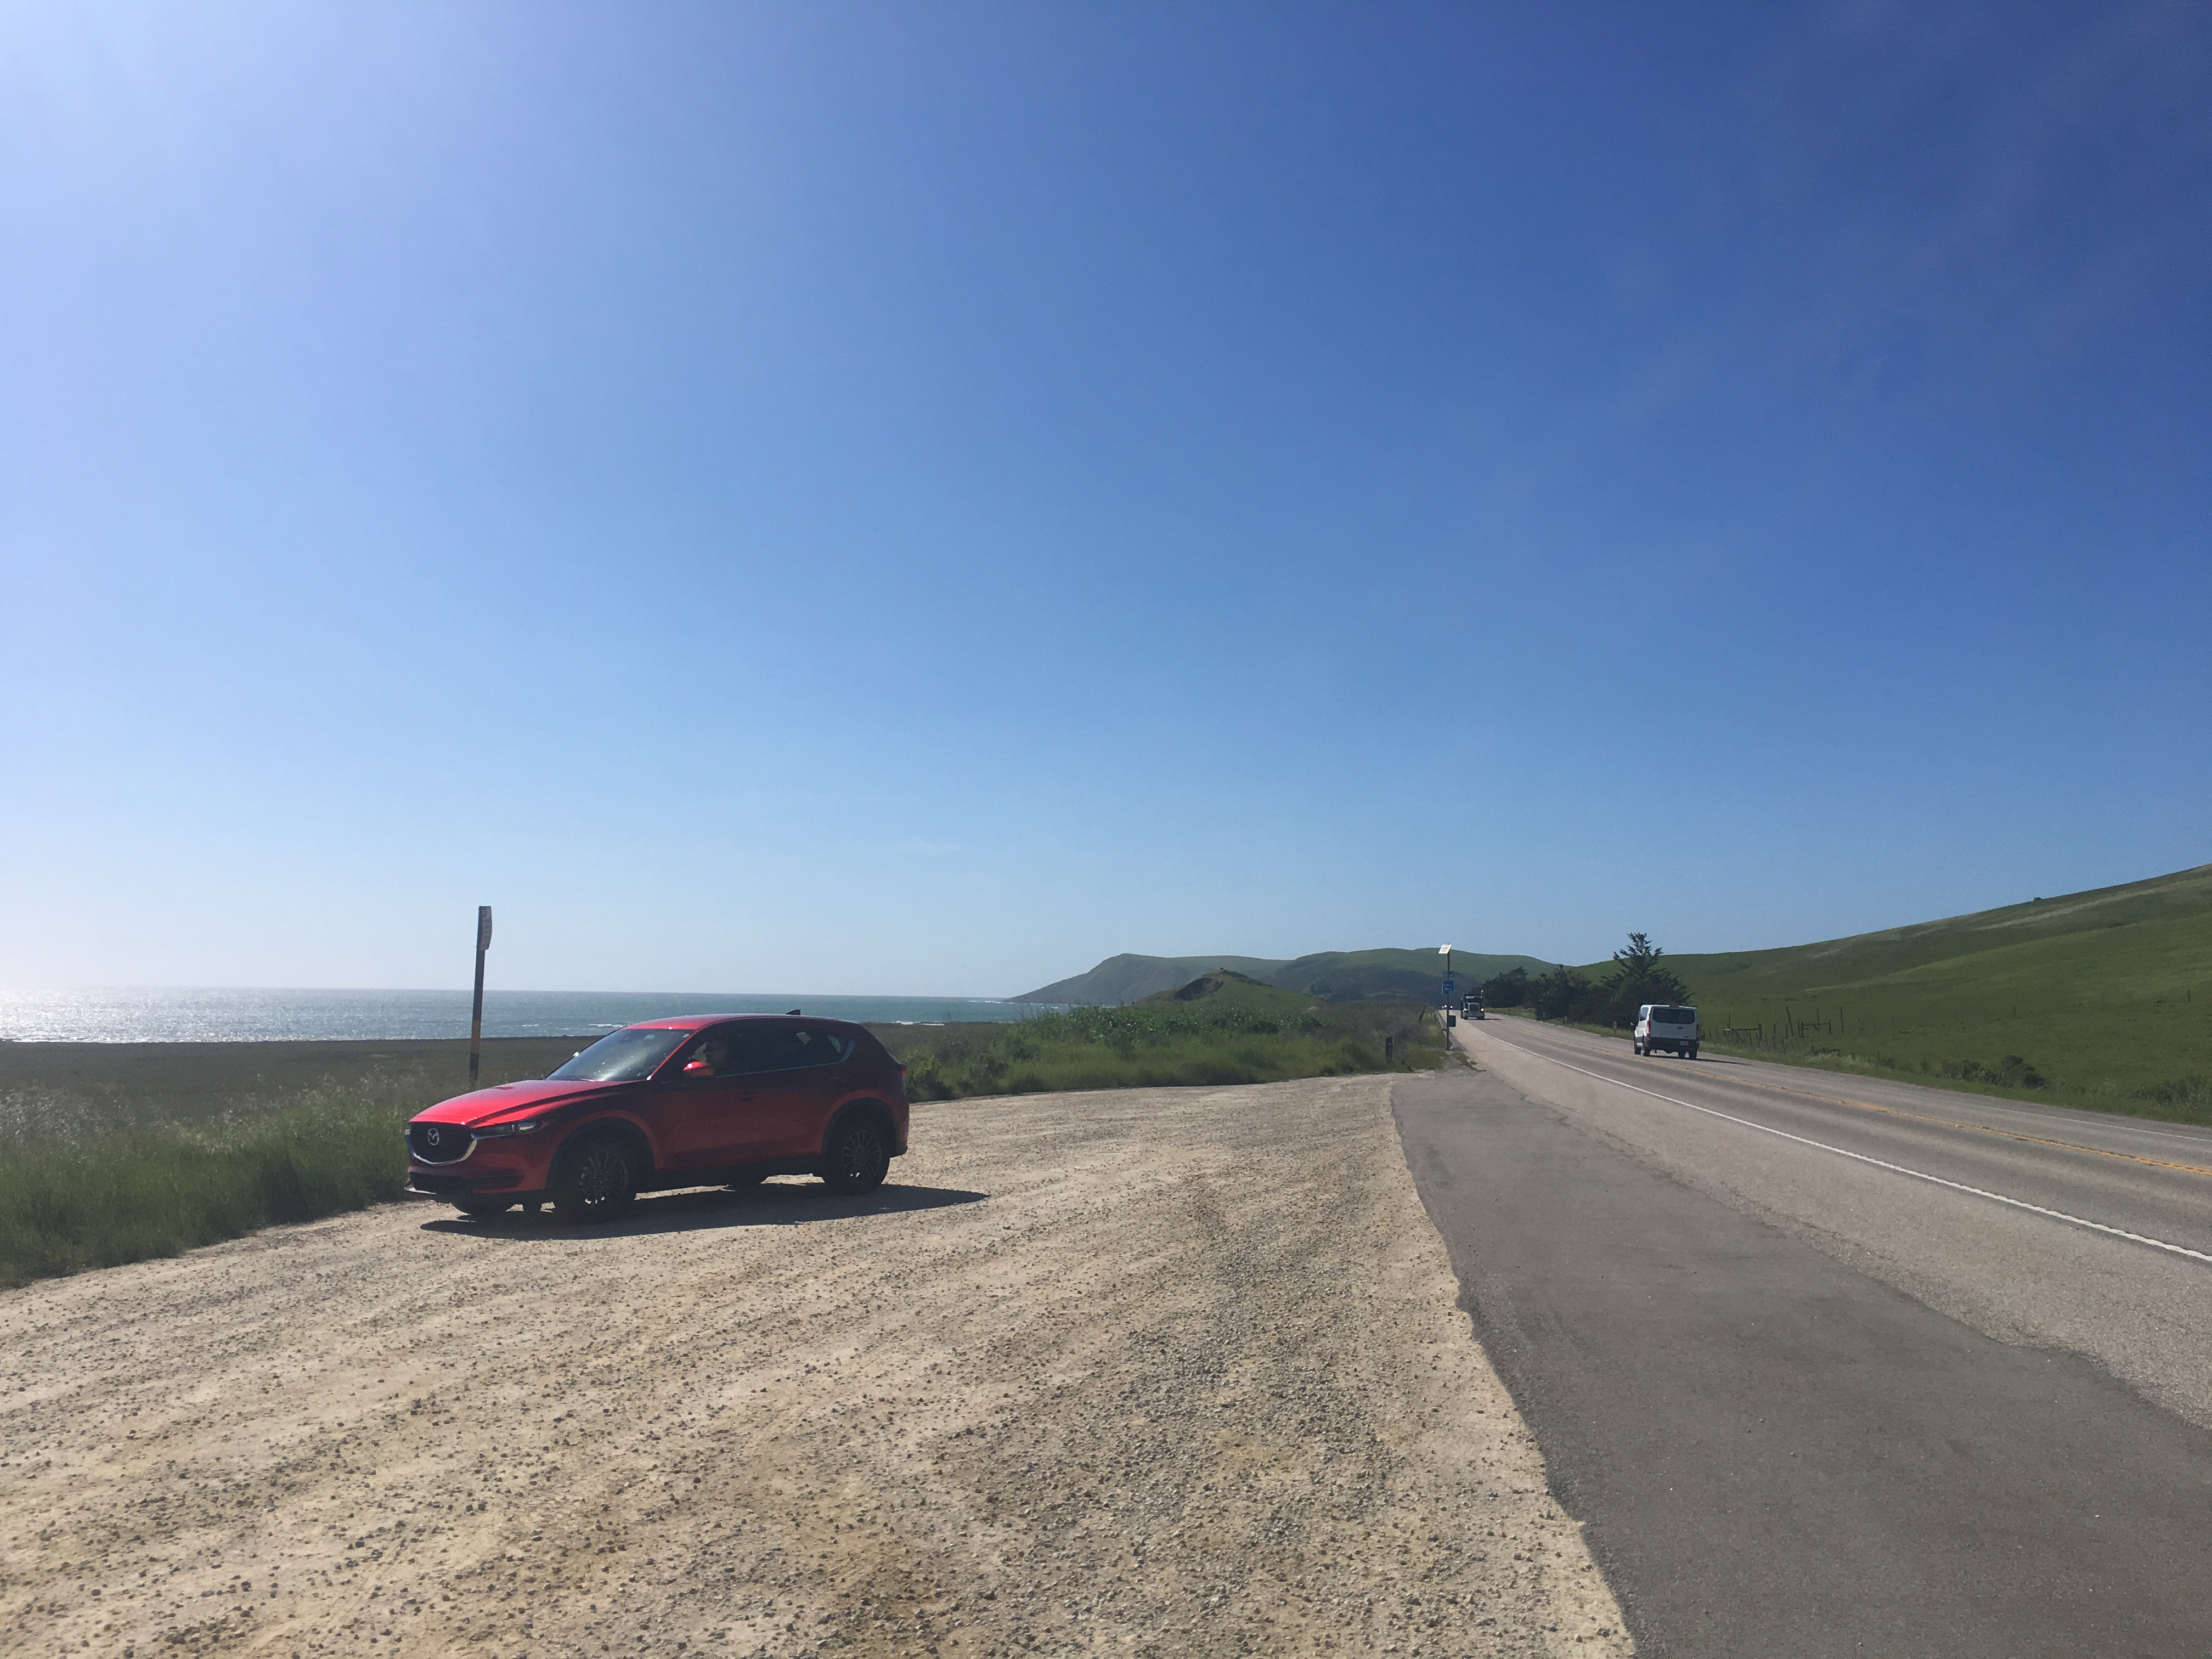Obstacle: (369, 988, 921, 1260), (1634, 988, 1707, 1066), (1439, 943, 1456, 1051), (1460, 988, 1487, 1021)
